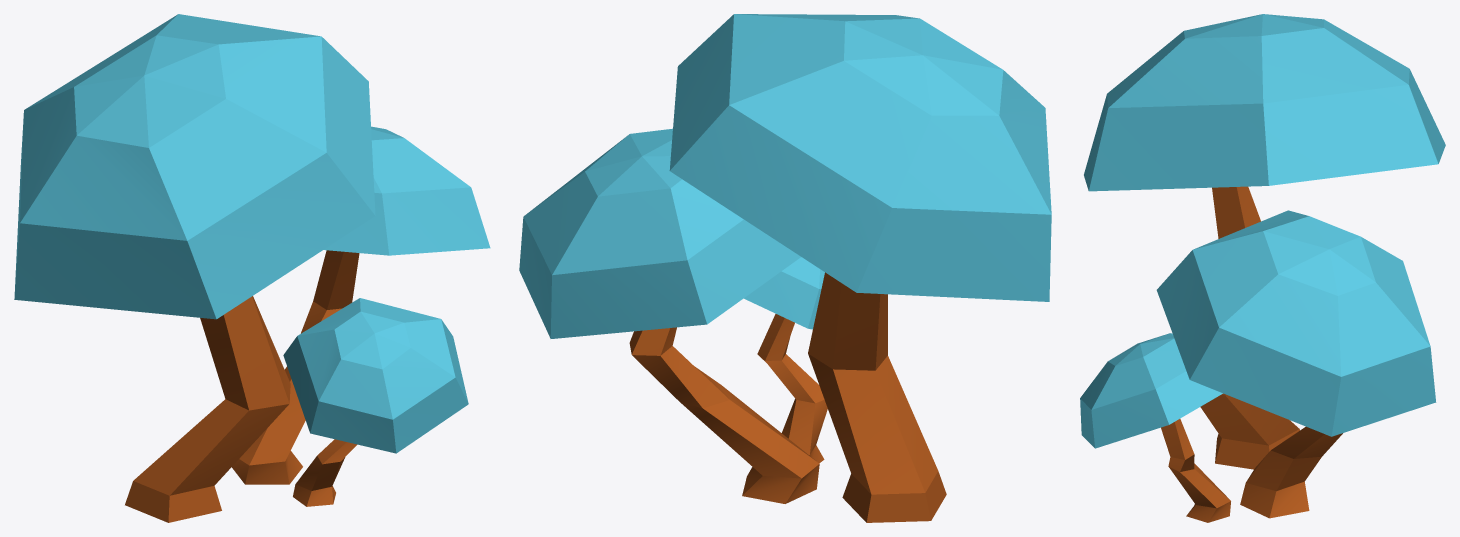
The model's file is Mushroom_d_b_02.fbx.
3 renders of one model, left to right at view 1: azimuth 30°, elevation 25°; view 2: azimuth 150°, elevation 25°; view 3: azimuth 270°, elevation 25°, orthographic. The views are drawn at different scales.
Visible parts, largest first — view 1: Mushroom_d_b_02_LOD0; view 2: Mushroom_d_b_02_LOD0; view 3: Mushroom_d_b_02_LOD0.
Boxes of the visible parts, left/top/right/bottom form: Mushroom_d_b_02_LOD0: left=14, top=14, right=490, bottom=522; Mushroom_d_b_02_LOD0: left=519, top=14, right=1051, bottom=522; Mushroom_d_b_02_LOD0: left=1080, top=14, right=1445, bottom=522.
Size of what is drawn, in the model's own units: 8.75 by 8.03 by 6.
